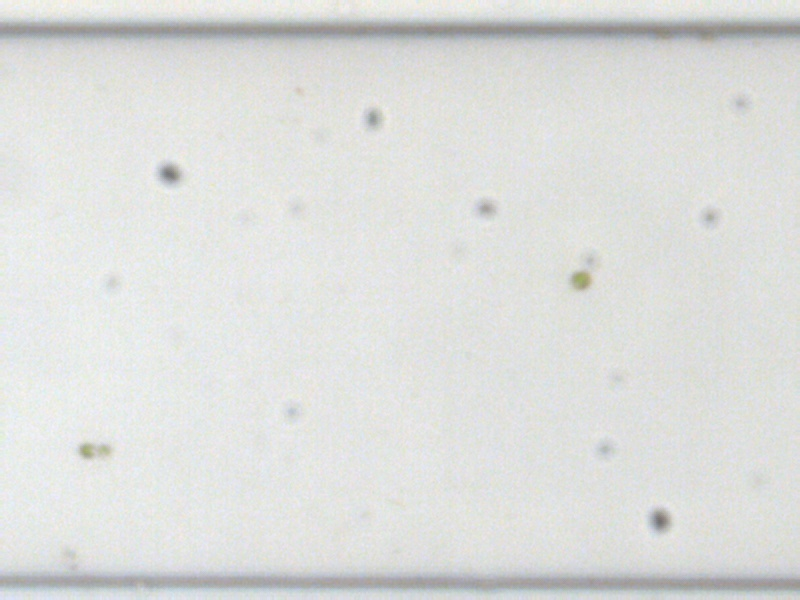Chlorella: (569, 268, 593, 287), (79, 441, 97, 459), (97, 442, 113, 457)
